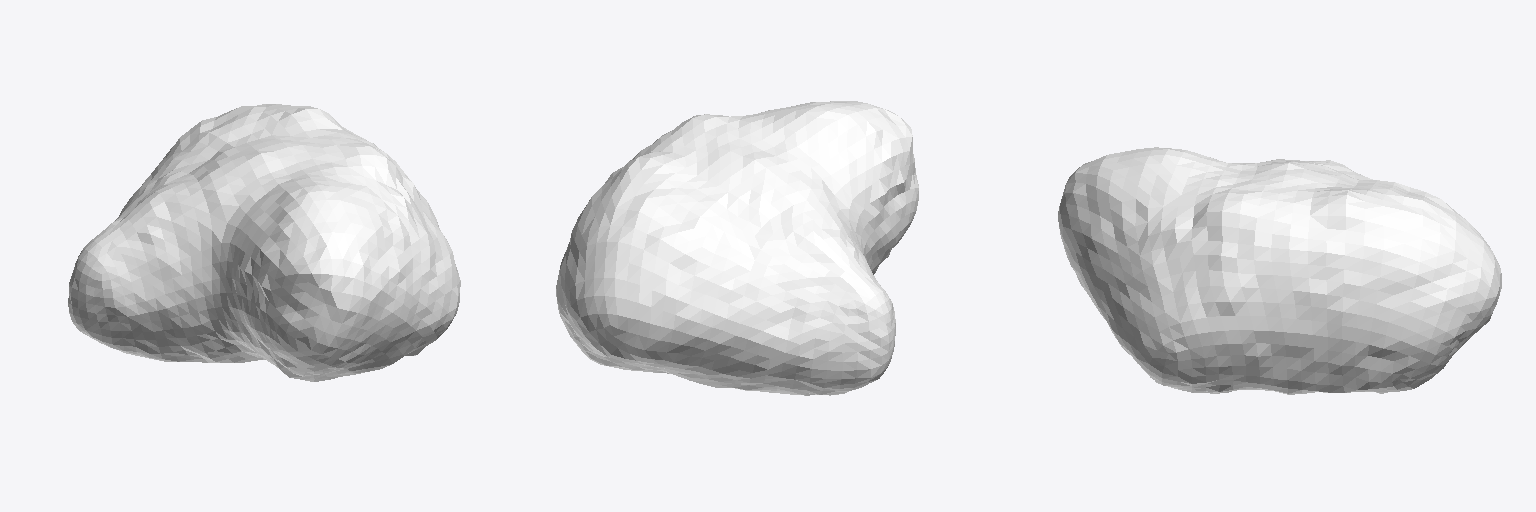
The model's file is stone.obj.
3 views of the same model, side by side, from view 1: azimuth 30°, elevation 25°; view 2: azimuth 150°, elevation 25°; view 3: azimuth 270°, elevation 25° (orthographic).
Parts seen in each view (by area): view 1: Stone; view 2: Stone; view 3: Stone.
Boxes of the visible parts, box(x1,y1,x2,y2) form: Stone: box(68, 104, 460, 381); Stone: box(556, 101, 918, 395); Stone: box(1058, 147, 1501, 394).
Bounding box in the file's own units: 486 × 320 × 611.